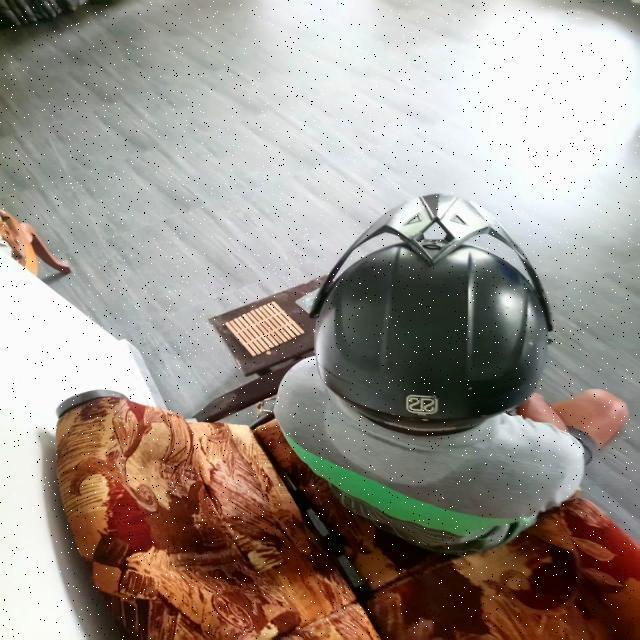helmet: (309, 190, 554, 437)
